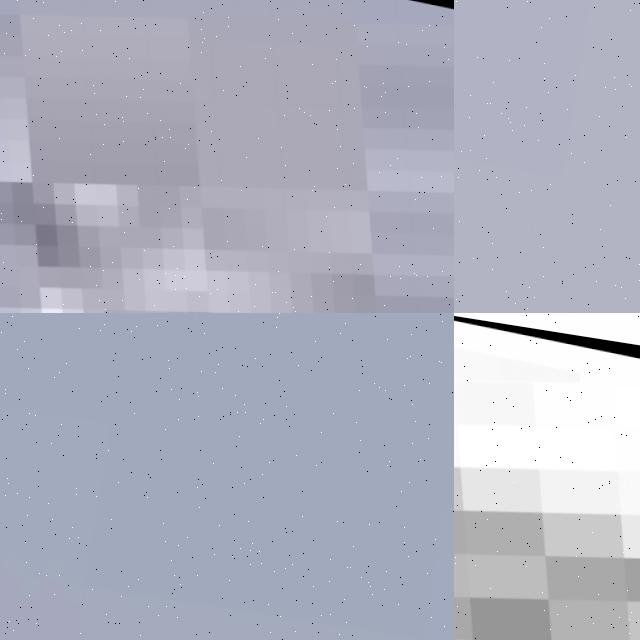drone: (0, 0, 454, 313), (454, 313, 640, 640)
